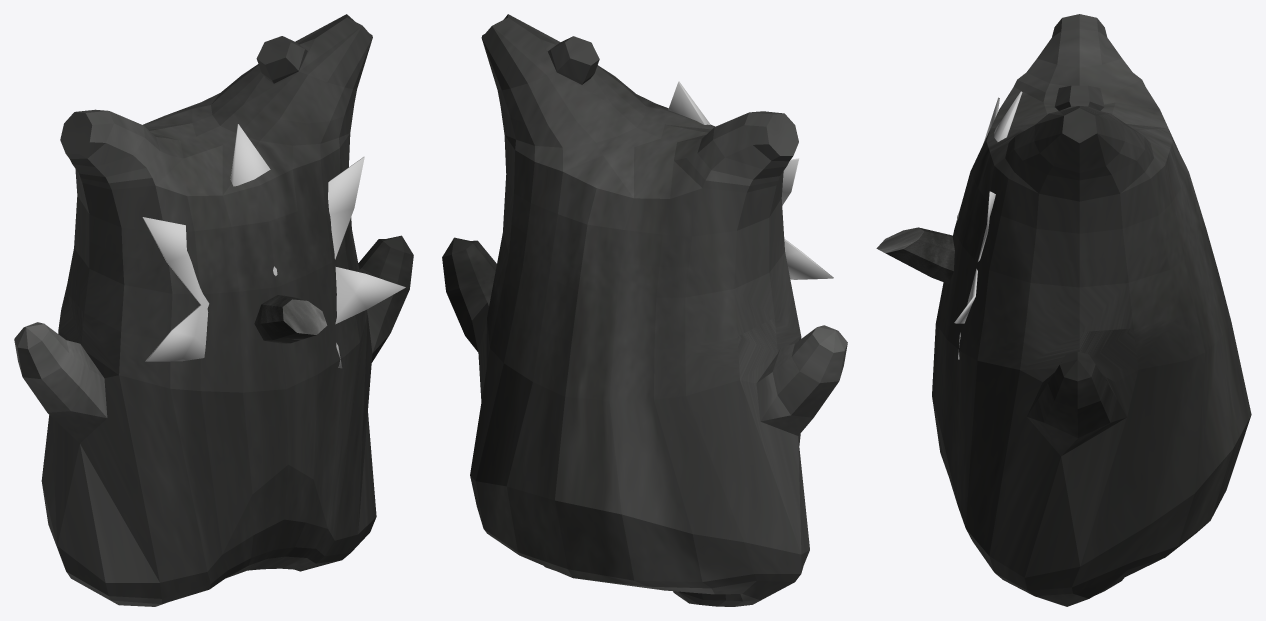
The model's file is frame_0053.obj.
3 views of the same model, side by side, from view 1: azimuth 30°, elevation 25°; view 2: azimuth 150°, elevation 25°; view 3: azimuth 270°, elevation 25° (orthographic). The views are drawn at different scales.
Parts seen in each view (by area): view 1: korok, leaf, nose.003_柱体.011; view 2: korok, leaf; view 3: korok, nose.003_柱体.011, leaf.
Part boxes in pixels (bbox=[...]): korok: bbox=[14, 14, 413, 606]; leaf: bbox=[142, 124, 405, 368]; nose.003_柱体.011: bbox=[254, 295, 327, 343]; korok: bbox=[442, 14, 847, 606]; leaf: bbox=[668, 81, 833, 279]; korok: bbox=[932, 14, 1251, 606]; nose.003_柱体.011: bbox=[876, 227, 954, 283]; leaf: bbox=[954, 91, 1022, 359].
Size of the model in its own units: 1.59 by 2.04 by 1.34.
